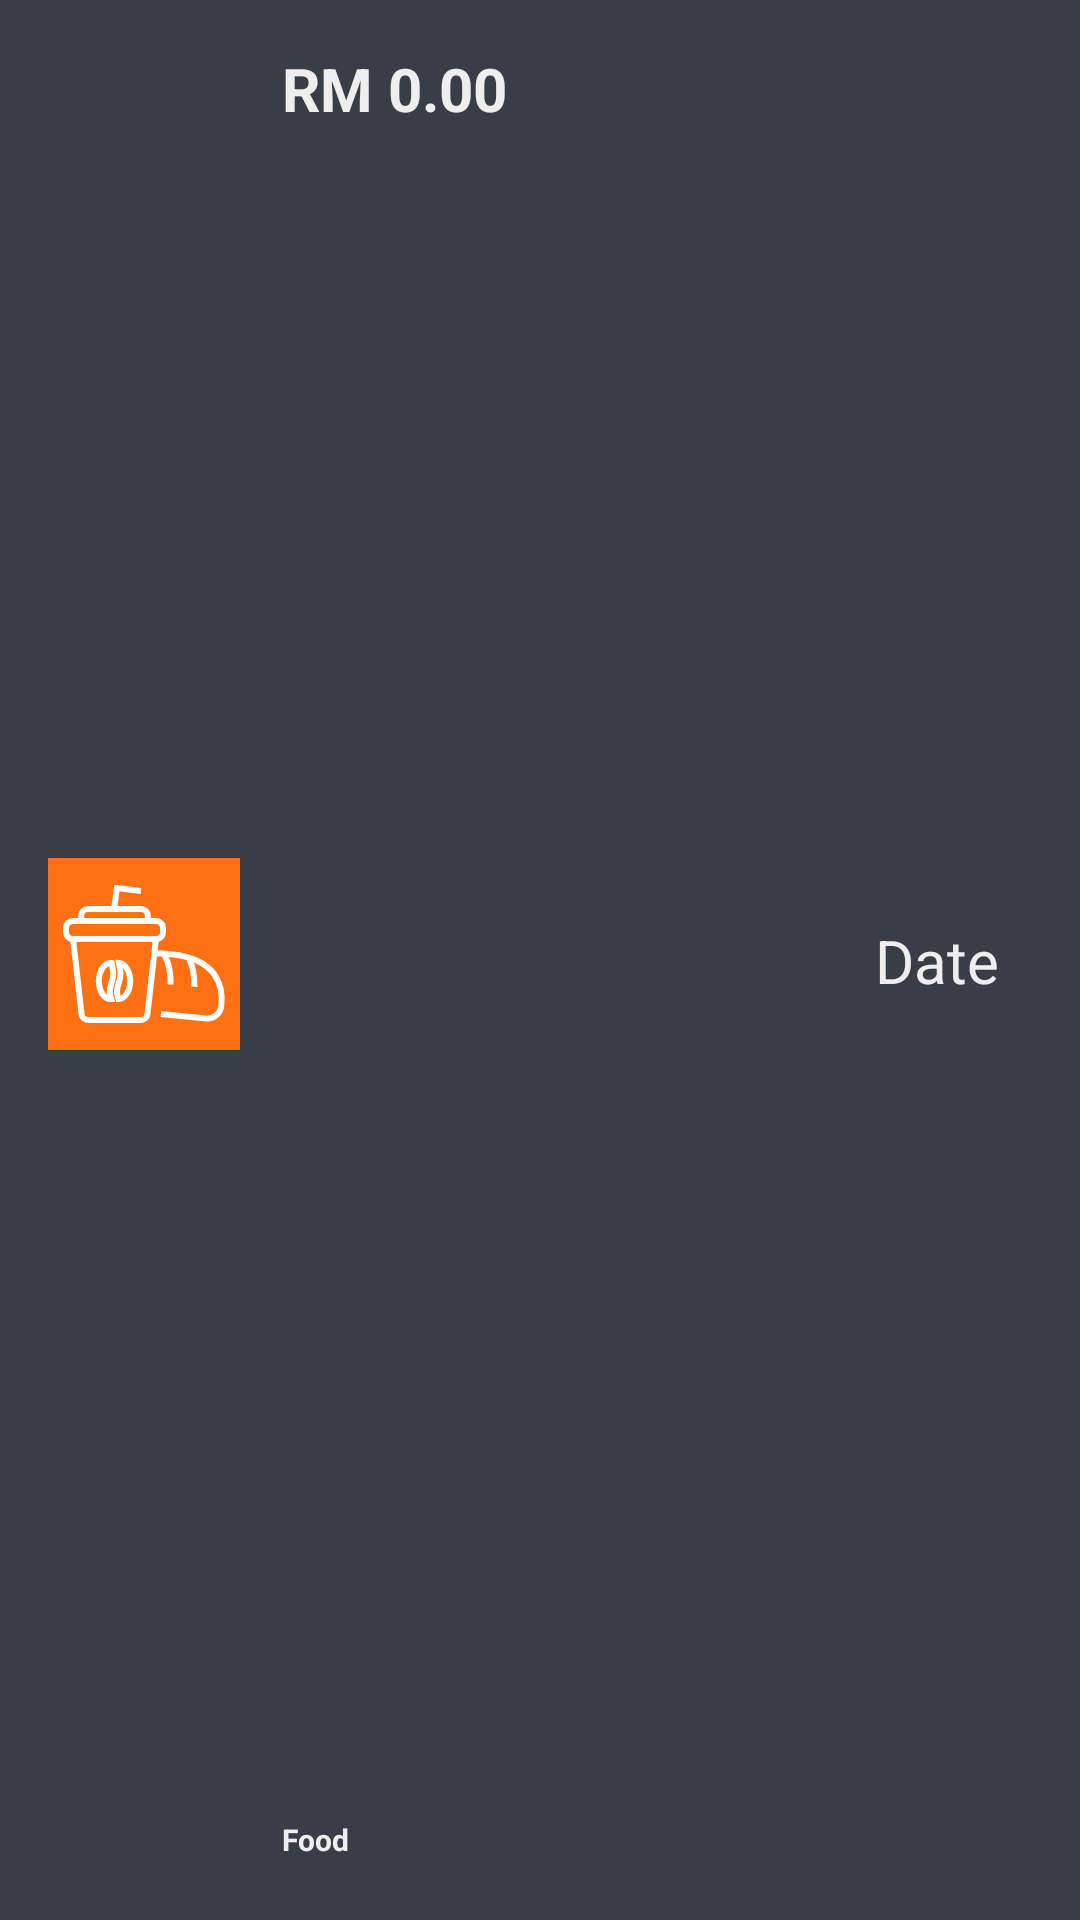

Named icons in this screenshot (1080px x 1920px) and their bounding boxes, detection(x1, y1, x2, y2):
food: detection(48, 858, 240, 1050)
